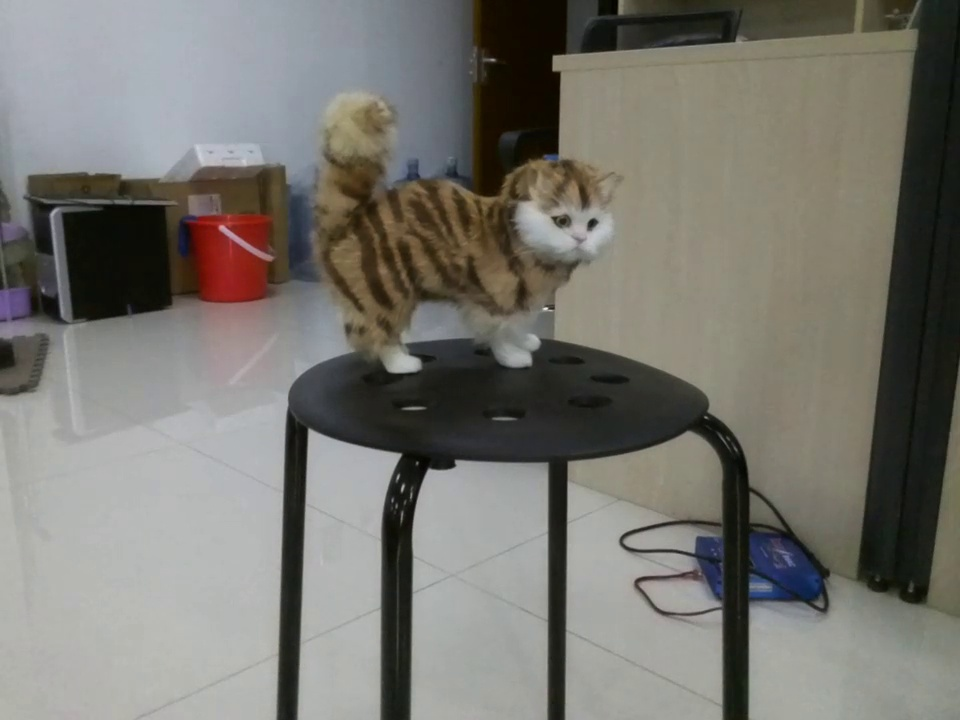cat: (304, 82, 624, 366)
